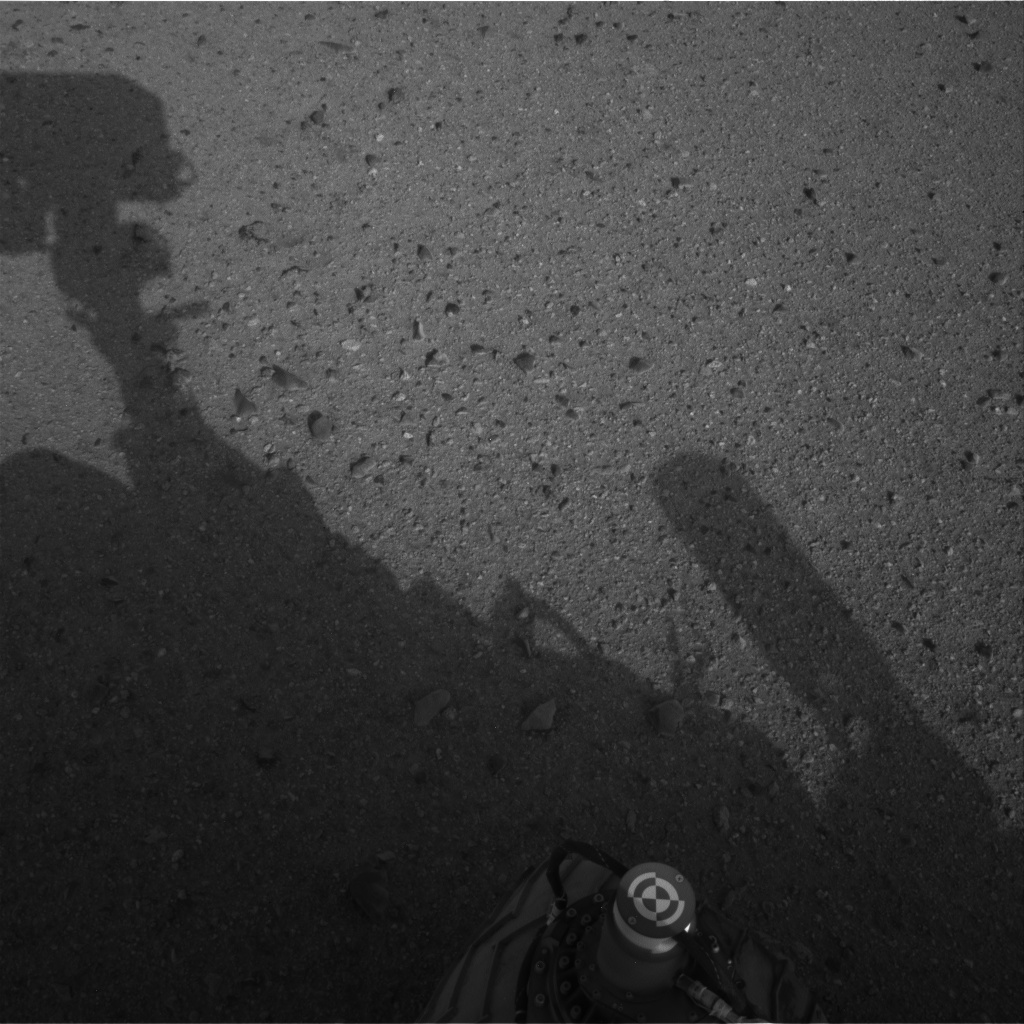soil: (9, 6, 1013, 1011)
